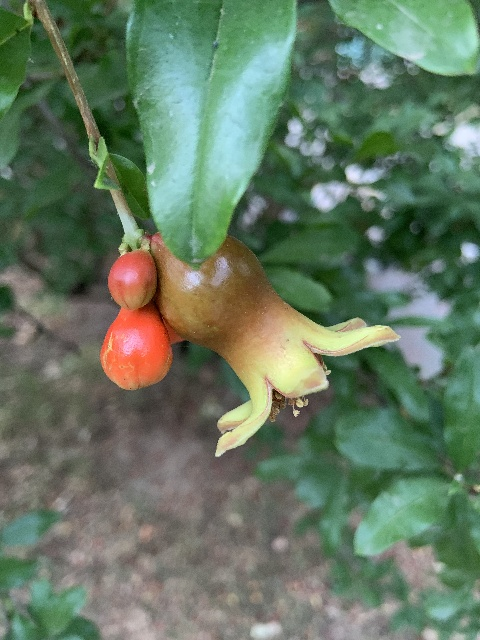bud: (100, 303, 172, 390), (108, 248, 156, 309)
early-fruit: (153, 234, 400, 453)
